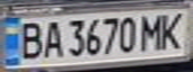0: (118, 14, 142, 54)
3: (63, 17, 87, 57)
6: (81, 16, 103, 56)
7: (100, 15, 121, 55)
A: (39, 18, 66, 60)
B: (12, 19, 45, 61)
K: (157, 9, 190, 51)
M: (136, 11, 169, 52)
